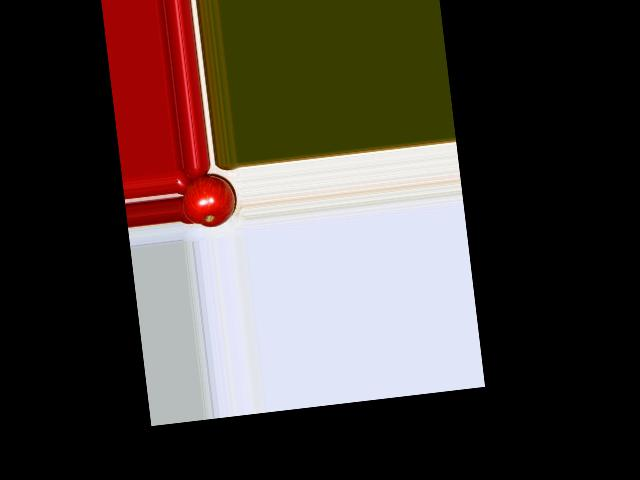tomato: (179, 172, 238, 230)
